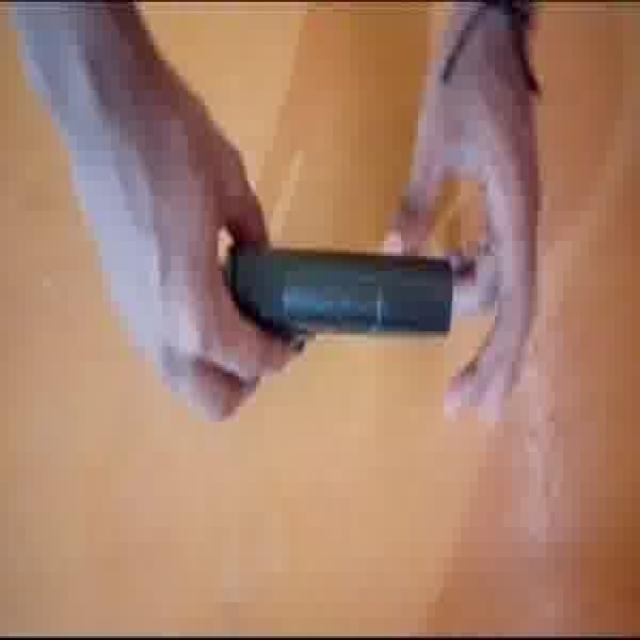weapon: (215, 225, 460, 348)
